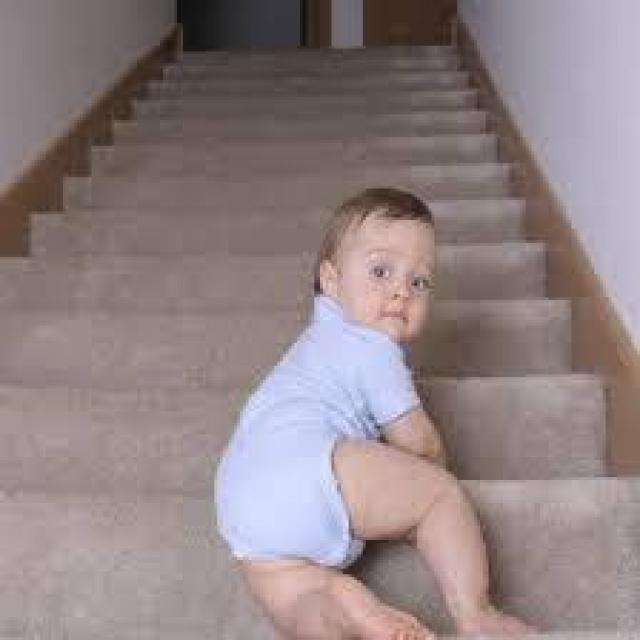child: (200, 172, 546, 638)
